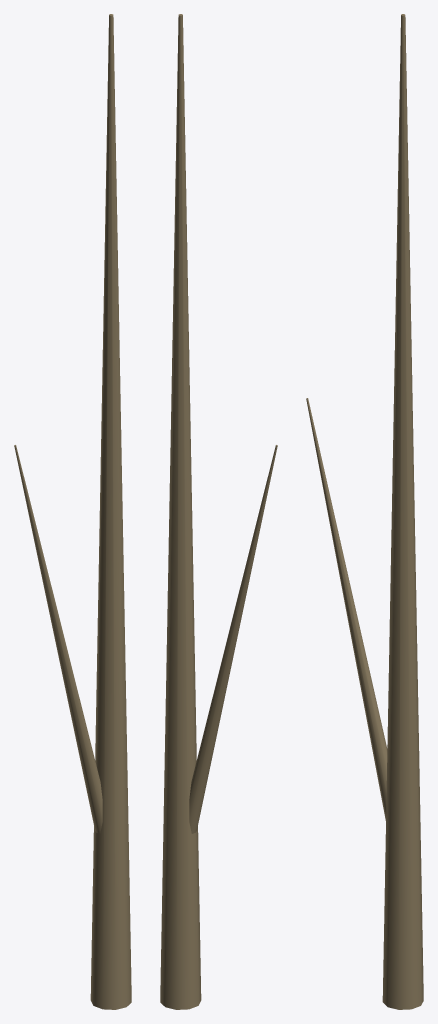
File: Tronco_alto_01.fbx
The picture shows the model from 3 angles, left to right: view 1: azimuth 30°, elevation 25°; view 2: azimuth 150°, elevation 25°; view 3: azimuth 330°, elevation 25°; orthographic projection.
Parts seen in each view (by area): view 1: Tronco_alto_01; view 2: Tronco_alto_01; view 3: Tronco_alto_01.
Boxes of the visible parts, bbox=[...] form: Tronco_alto_01: bbox=[14, 14, 131, 1009]; Tronco_alto_01: bbox=[160, 14, 277, 1009]; Tronco_alto_01: bbox=[306, 14, 423, 1009].
Bounding box in the file's own units: 4.64 × 38.09 × 1.38.
